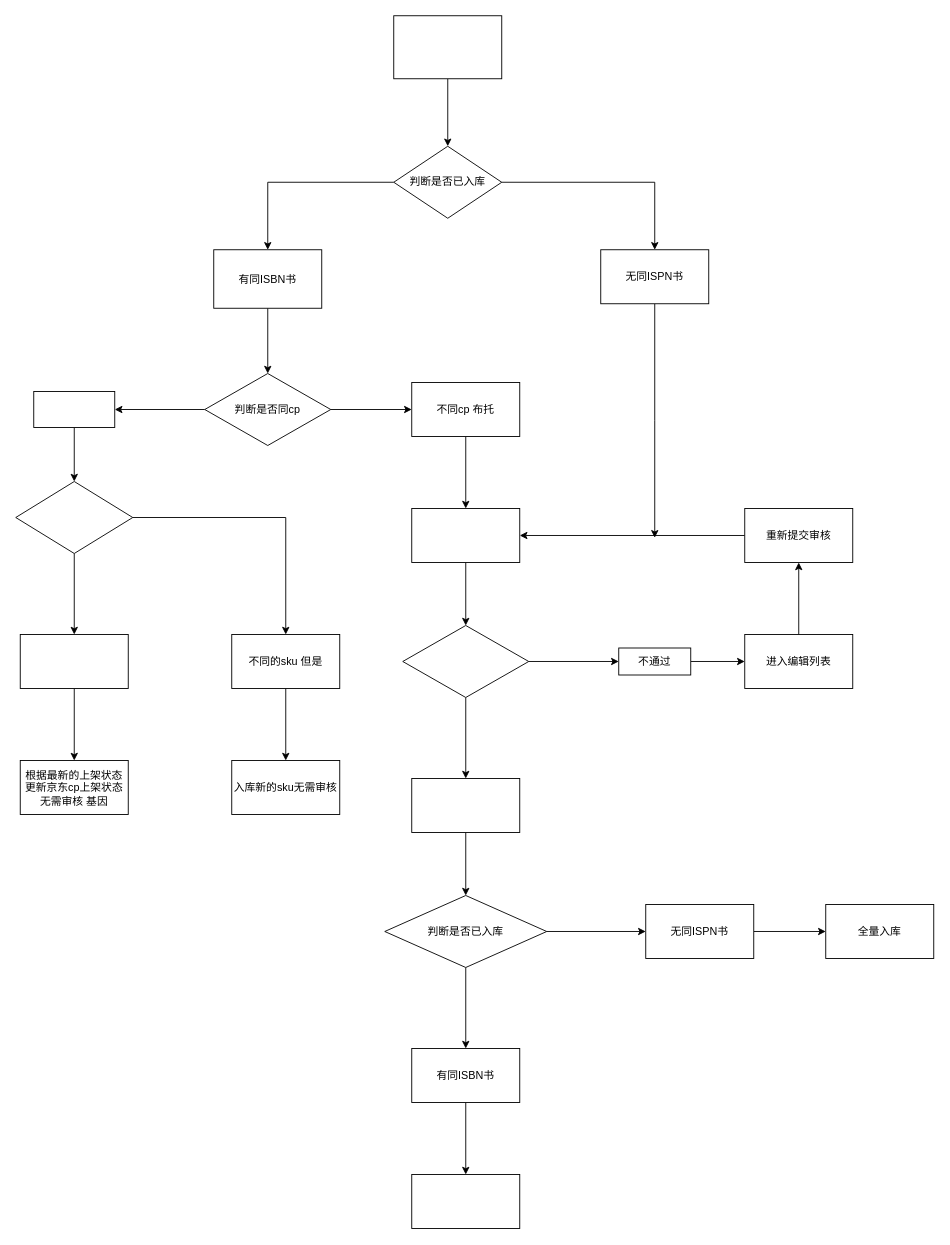
Image size: 950x1245. Some labels were removed from this diagram. Each missing label, with the centre of its shape:
书城京东图书同步到中信: (x=447, y=47)
判断是否同sku: (x=74, y=517)
同cp Same: (x=74, y=409)
同sku 到: (x=73, y=661)
审核是否通过: (x=465, y=661)
补充库中为空的字段内容非空字段保持不变: (x=465, y=1201)
进入审核列表: (x=465, y=535)
通过: (x=465, y=805)
